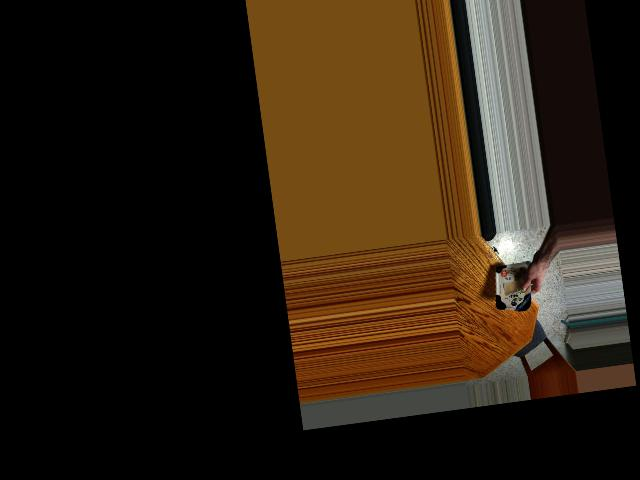cheese: (494, 254, 536, 315)
